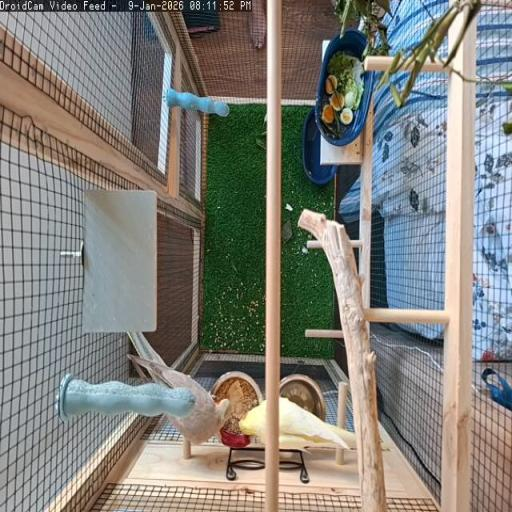bebedero: (280, 374, 326, 416)
comedero: (218, 418, 255, 449), (214, 372, 244, 407), (226, 469, 235, 479)
ninfa: (130, 332, 266, 436), (279, 389, 356, 447), (279, 390, 356, 447), (238, 377, 267, 437)
